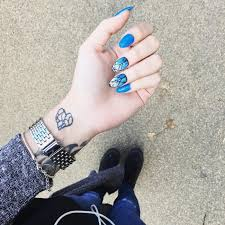hand: (60, 4, 174, 144)
